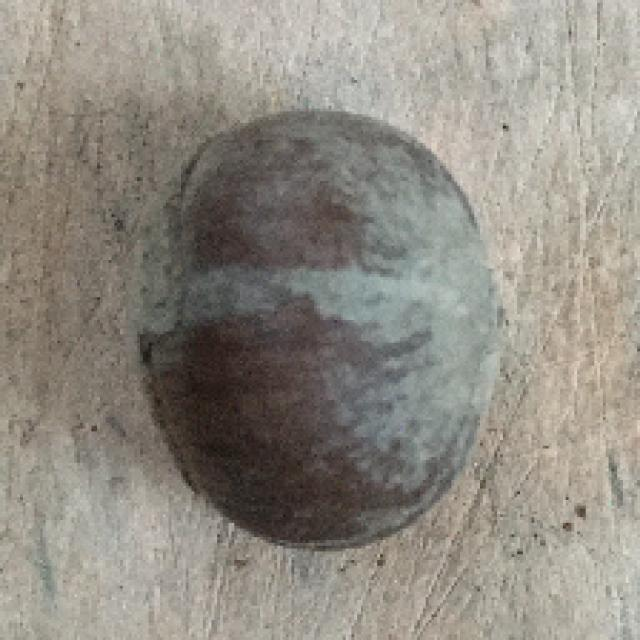damagedHazelnut: (133, 104, 506, 562)
